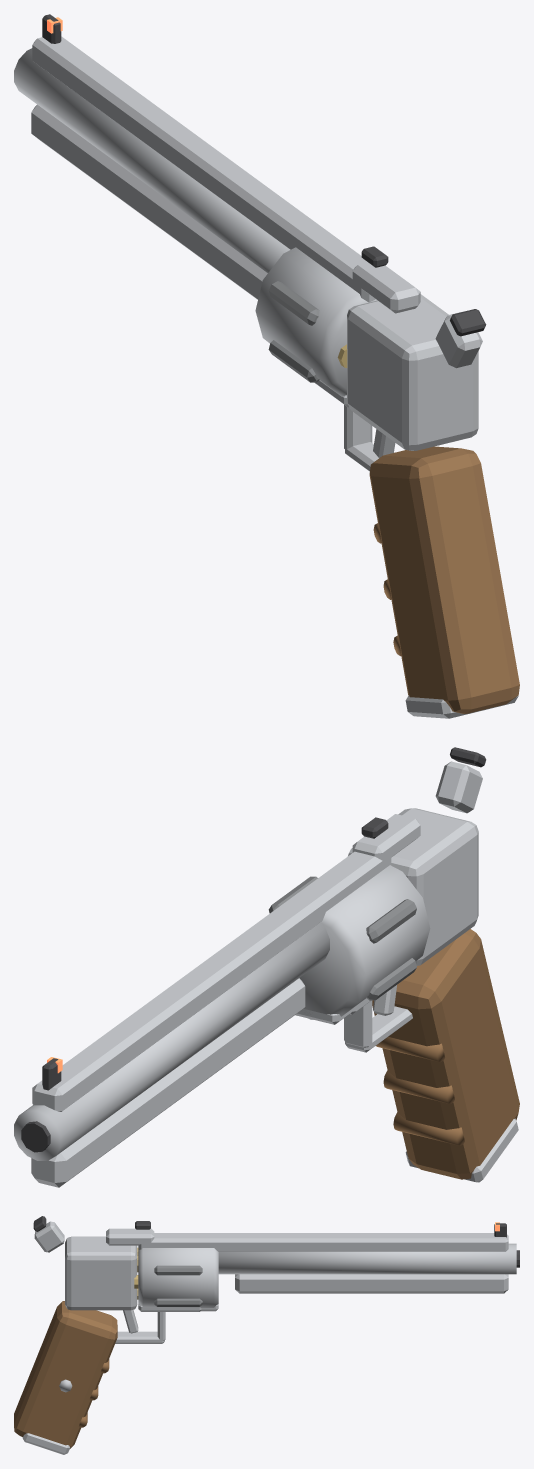
The model's file is magnum.glb.
3 views of the same model, one above another, from view 1: azimuth 30°, elevation 25°; view 2: azimuth 150°, elevation 25°; view 3: azimuth 270°, elevation 25° (orthographic). The views are drawn at different scales.
Parts seen in each view (by area): view 1: Magnum, Barrel; view 2: Barrel, Magnum; view 3: Barrel, Magnum.
Part boxes in pixels (x1=…): Magnum: x1=314, y1=246, x2=519, y2=718; Barrel: x1=14, y1=14, x2=376, y2=396; Barrel: x1=14, y1=851, x2=430, y2=1187; Magnum: x1=344, y1=747, x2=519, y2=1182; Barrel: x1=134, y1=1222, x2=519, y2=1311; Magnum: x1=14, y1=1216, x2=201, y2=1454.
Bounding box in the file's own units: 0.044 × 0.1556 × 0.3142.
